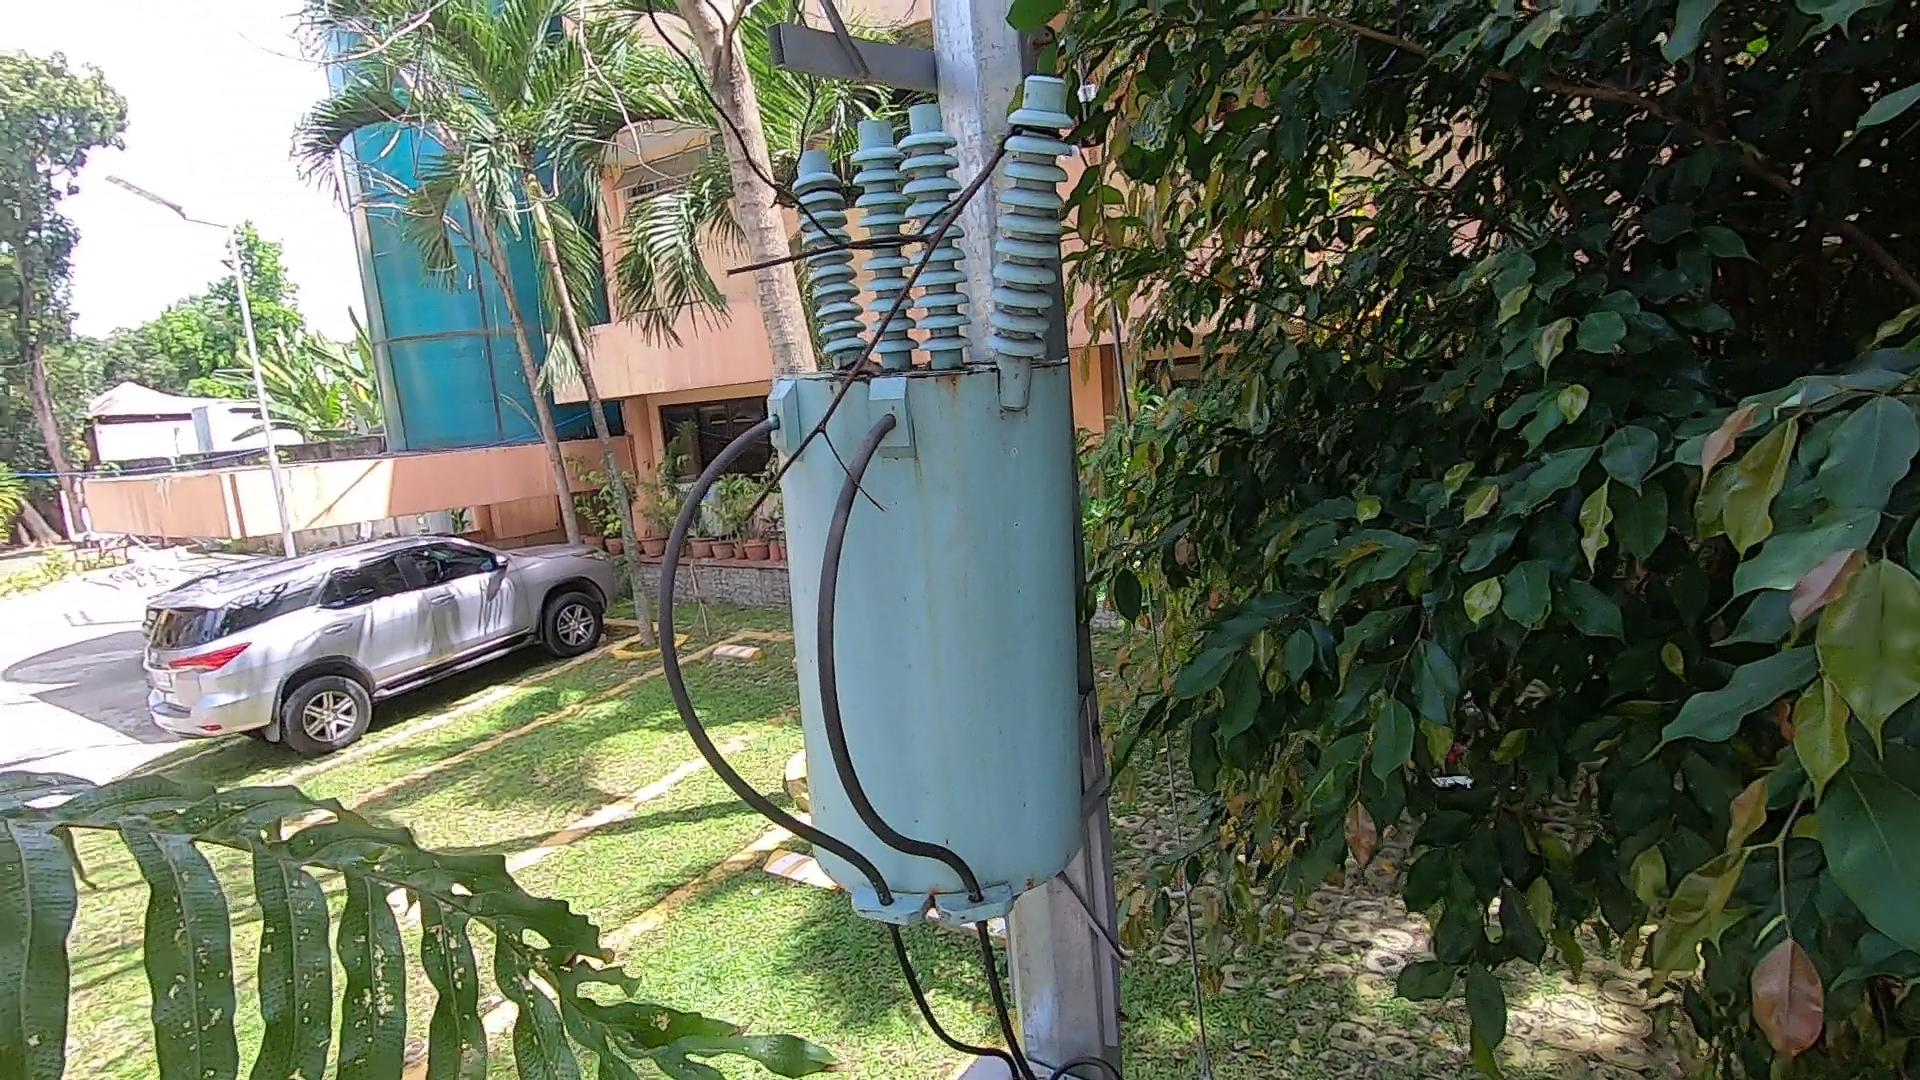leaf: (847, 348, 901, 380)
tree branch: (724, 57, 1088, 559)
